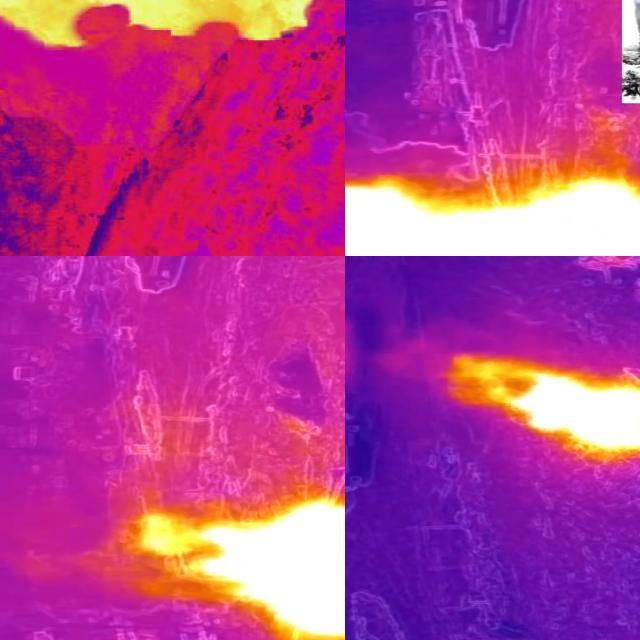fire: (346, 178, 640, 257), (1, 1, 331, 52), (226, 502, 346, 640), (533, 359, 640, 459)
